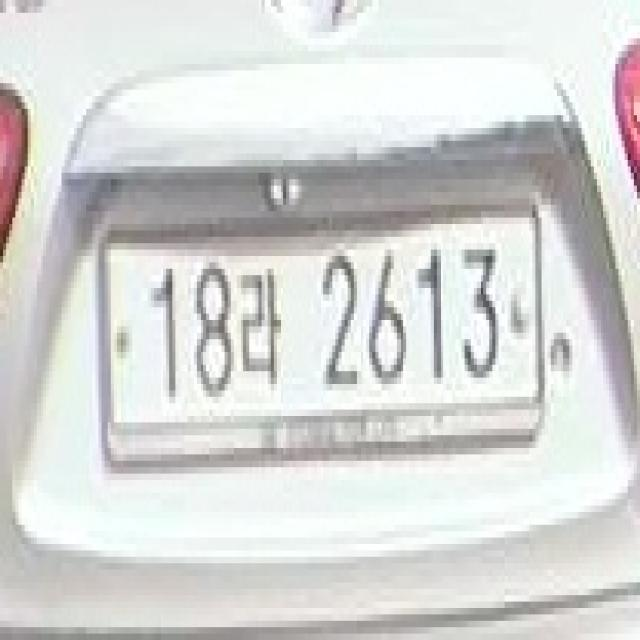1: (416, 237, 452, 403), (148, 249, 188, 396)
2: (317, 243, 363, 397)
3: (455, 224, 511, 390)
6: (360, 237, 415, 397)
8: (191, 250, 237, 410)
la: (237, 256, 286, 397)
license_plate: (95, 186, 557, 487)
